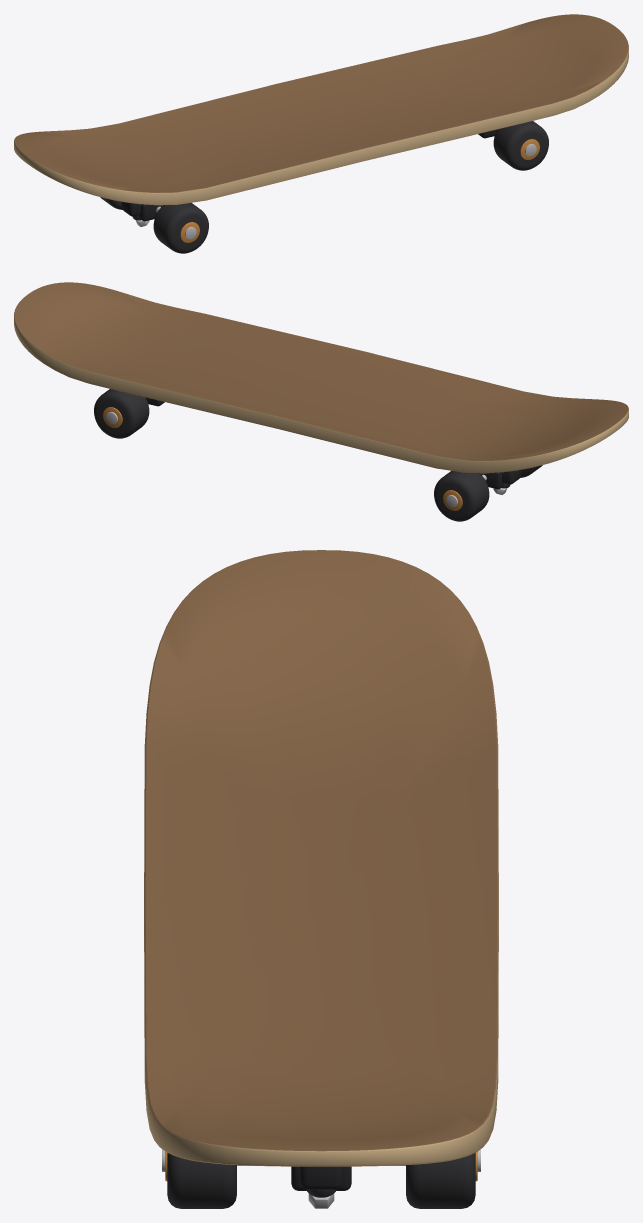
The picture shows the model from 3 angles, top to bottom: view 1: azimuth 30°, elevation 25°; view 2: azimuth 150°, elevation 25°; view 3: azimuth 270°, elevation 25°; orthographic projection. The views are drawn at different scales.
Visible parts, largest first — view 1: 板面, 轮_L_后, 轮_R_前; view 2: 板面, 轮_R_后, 轮_L_前; view 3: 板面, 轮_L_前, 轮_R_前, 桥_吊架内臂_前.
Boxes of the visible parts, x1=… form: 板面: x1=14, y1=14, x2=628, y2=205; 轮_L_后: x1=153, y1=202, x2=208, y2=253; 轮_R_前: x1=493, y1=121, x2=548, y2=170; 板面: x1=14, y1=282, x2=628, y2=473; 轮_R_后: x1=434, y1=470, x2=489, y2=521; 轮_L_前: x1=94, y1=389, x2=149, y2=438; 板面: x1=144, y1=550, x2=498, y2=1166; 轮_L_前: x1=406, y1=1153, x2=475, y2=1208; 轮_R_前: x1=167, y1=1153, x2=236, y2=1208; 桥_吊架内臂_前: x1=300, y1=1166, x2=342, y2=1189.
Bounding box in the file's own units: 90 × 14.71 × 23.5.
